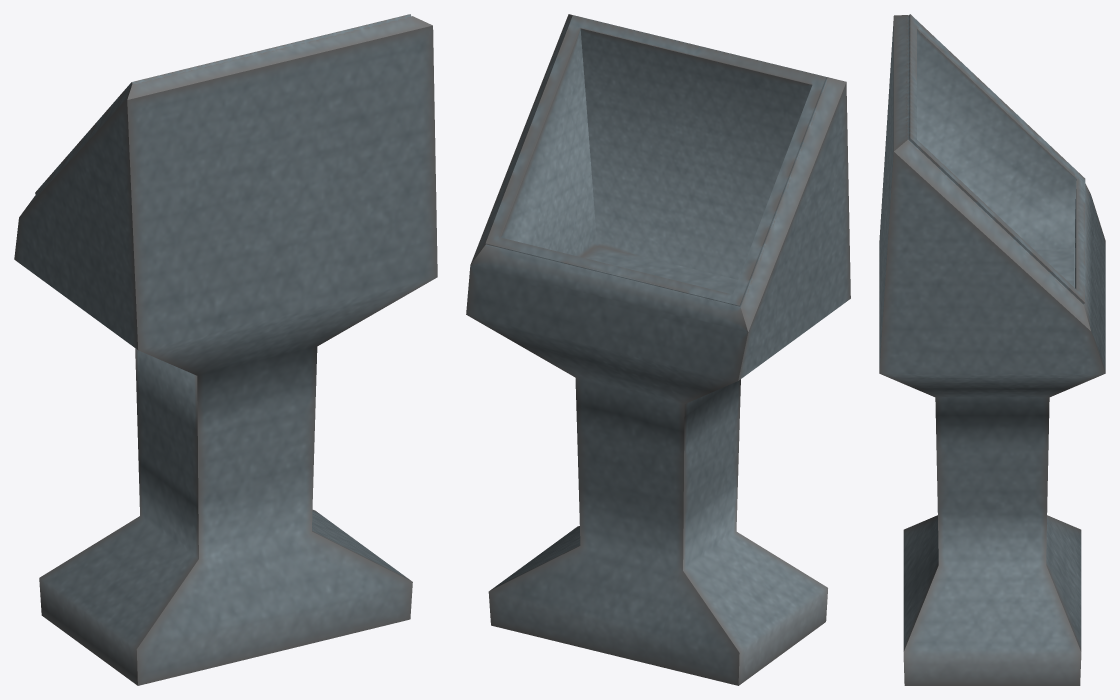
File: Console_Left_Panel_Base.fbx
The picture shows the model from 3 angles, left to right: view 1: azimuth 30°, elevation 25°; view 2: azimuth 150°, elevation 25°; view 3: azimuth 270°, elevation 25°; orthographic projection. The views are drawn at different scales.
Parts seen in each view (by area): view 1: Left_Console_Base; view 2: Left_Console_Base; view 3: Left_Console_Base.
Boxes of the visible parts, x1=… form: Left_Console_Base: x1=14, y1=14, x2=437, y2=685; Left_Console_Base: x1=466, y1=14, x2=850, y2=685; Left_Console_Base: x1=879, y1=14, x2=1105, y2=685.
Bounding box in the file's own units: 576 × 1084 × 404.
